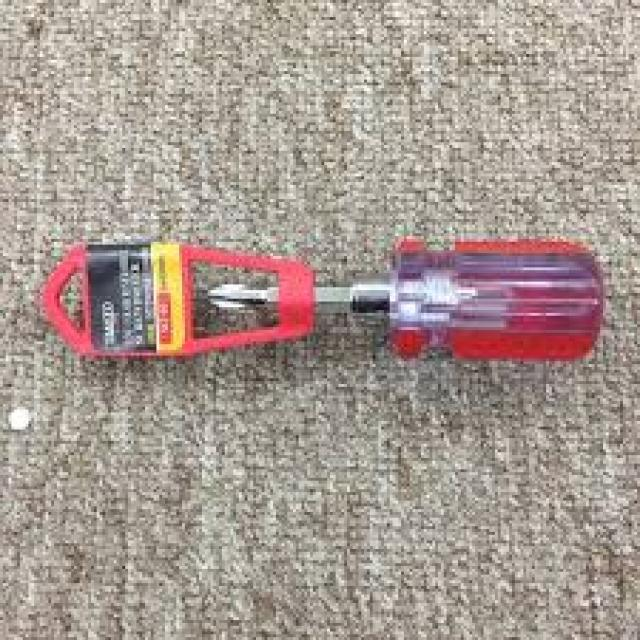screwdriver: (198, 220, 628, 374)
